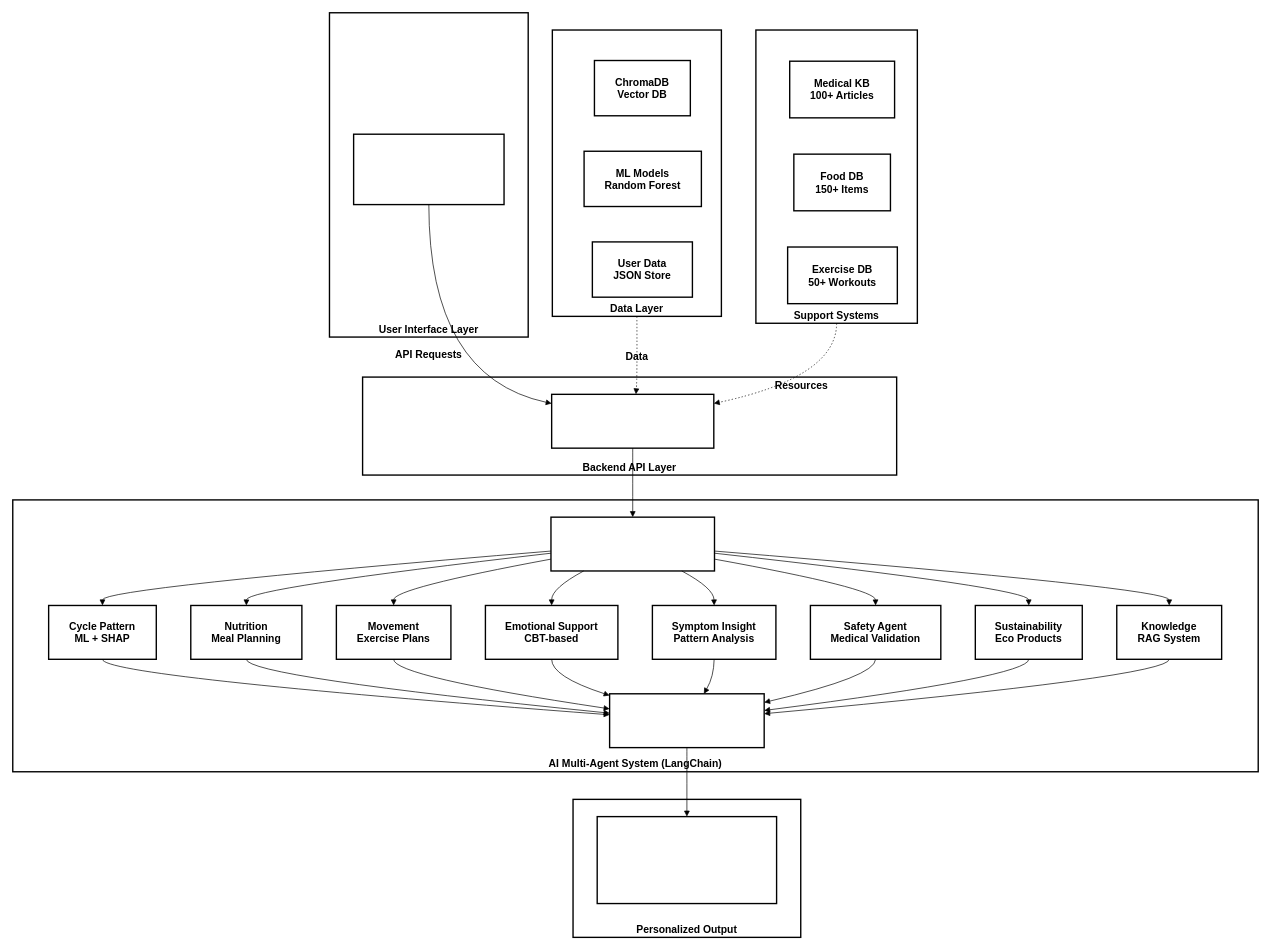
Some shapes in this 1270 by 949 pixel diagram are drawn without their labels. Here are the shapes that lost their labels. From the top down, the centre of each, then its label:
At [428,169]: "React 18 + TypeScript Vite + TailwindCSS shadcn/ui".
At [632,420]: "FastAPI + Pydantic Async Request Handling".
At [632,543]: "Google Gemini 2.5 Flash Powers all AI agents".
At [687,720]: "Coordinator Agent Synthesizes all outputs".
At [686,860]: "Cycle Predictions • Meal Plans Workouts • Mental Health Safety Alerts".
